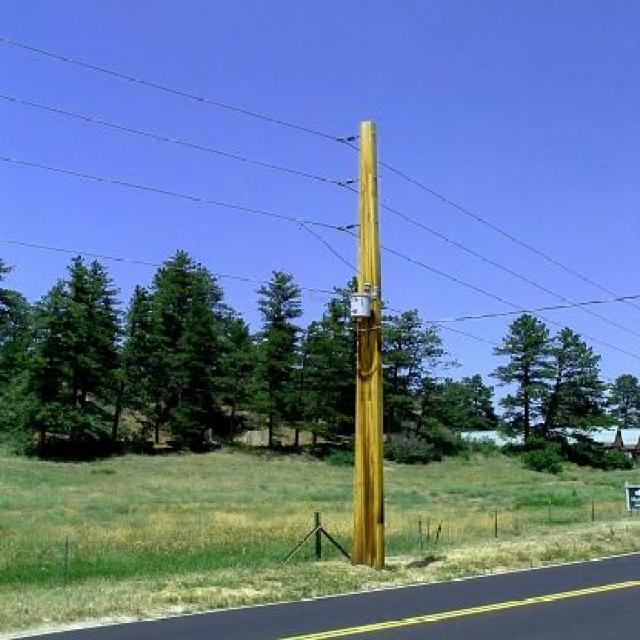pole: (309, 104, 420, 558)
